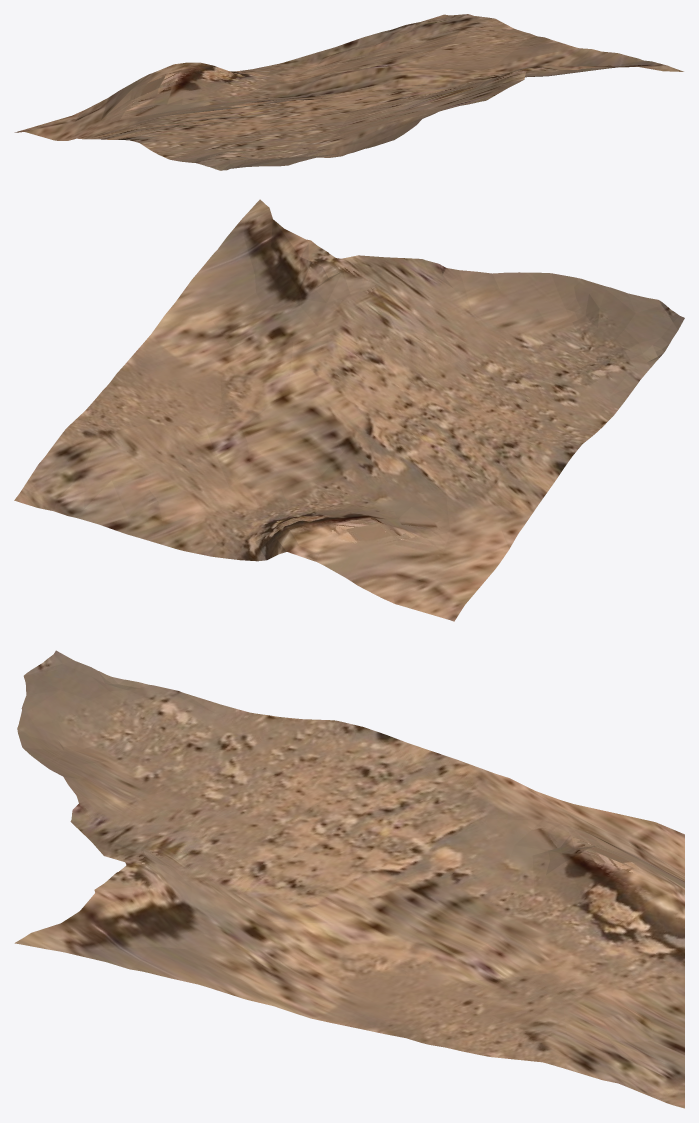
The picture shows the model from 3 angles, top to bottom: view 1: azimuth 30°, elevation 25°; view 2: azimuth 150°, elevation 25°; view 3: azimuth 270°, elevation 25°; orthographic projection. The views are drawn at different scales.
Bounding box in the file's own units: 1.04 × 0.306 × 1.01.
2 materials, 2 textured.
